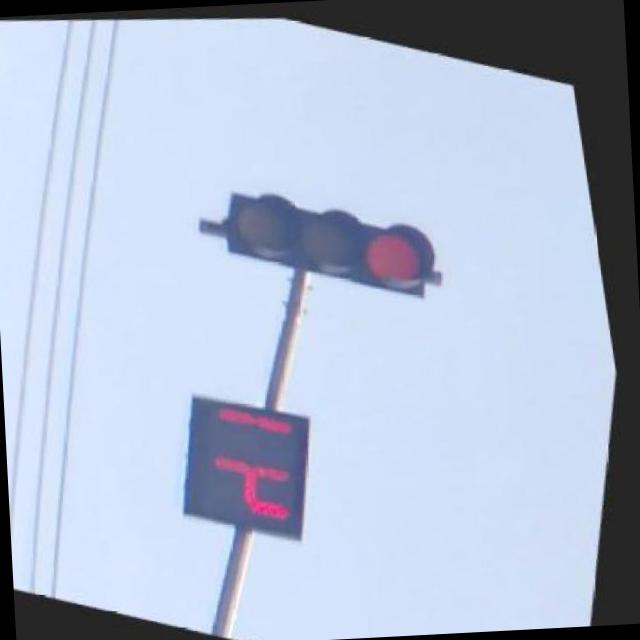red-lights: (368, 222, 428, 288)
